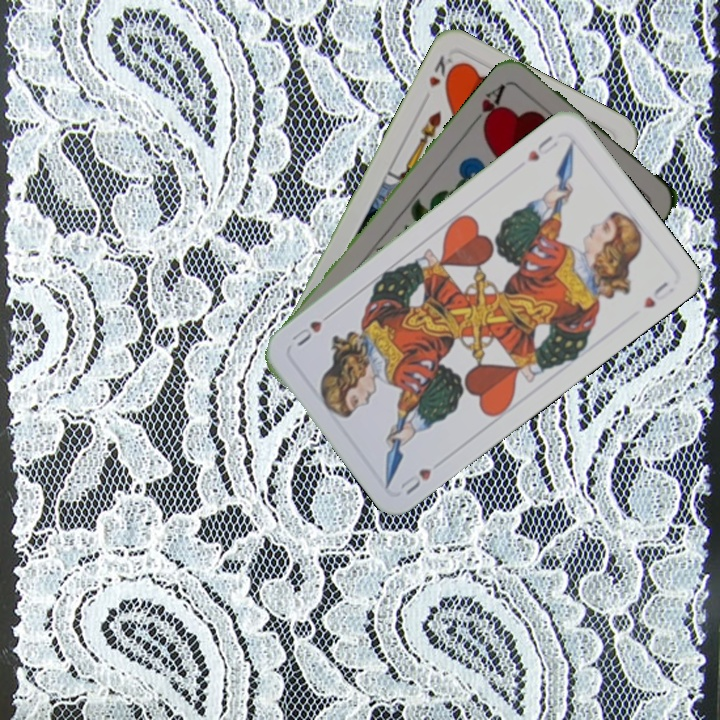HA: (466, 79, 509, 134)
HK: (424, 51, 460, 92)
HU: (396, 464, 434, 498), (522, 131, 561, 164)
